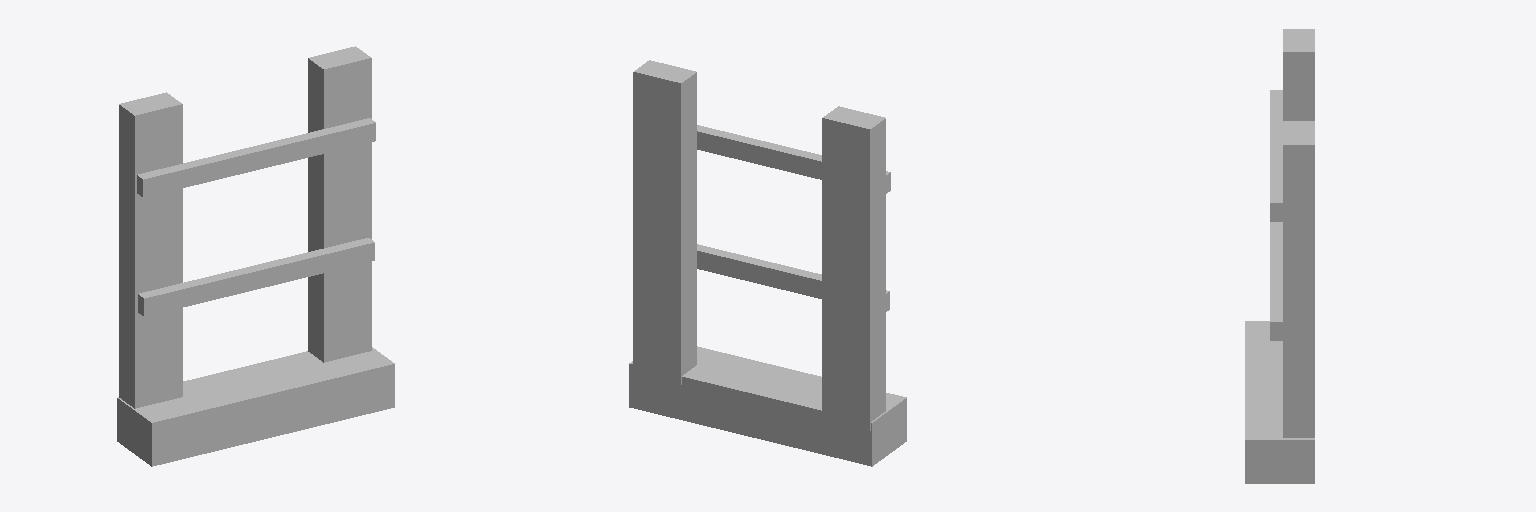
File: rack.obj
The picture shows the model from 3 angles: view 1: azimuth 30°, elevation 25°; view 2: azimuth 150°, elevation 25°; view 3: azimuth 270°, elevation 25°; orthographic projection.
Parts seen in each view (by area): view 1: Cube.003, Cube.000_Cube.005; view 2: Cube.003, Cube.000_Cube.005; view 3: Cube.003, Cube.000_Cube.005.
Part boxes in pixels (x1,y1,x2,y2): Cube.003: (117,46,394,466); Cube.000_Cube.005: (137,118,375,316); Cube.003: (629,60,906,466); Cube.000_Cube.005: (697,125,890,311); Cube.003: (1245,29,1314,483); Cube.000_Cube.005: (1270,90,1282,340).
Bounding box in the file's own units: 1.2 × 1.59 × 0.2979.